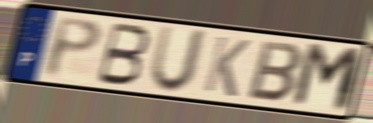B: (245, 38, 306, 105), (93, 20, 153, 88)
K: (200, 33, 253, 100)
M: (288, 40, 366, 116)
P: (43, 15, 105, 81)
U: (147, 23, 211, 96)
